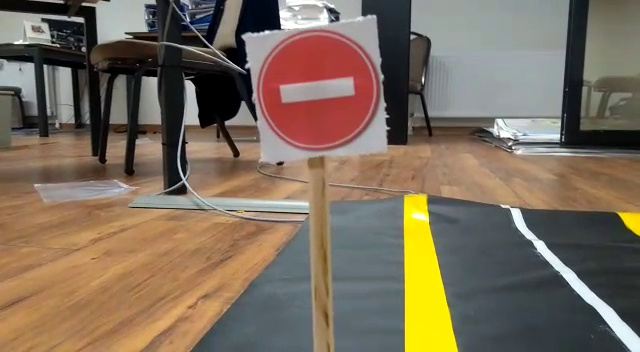girisi_olmayan_yol: (250, 31, 381, 154)
